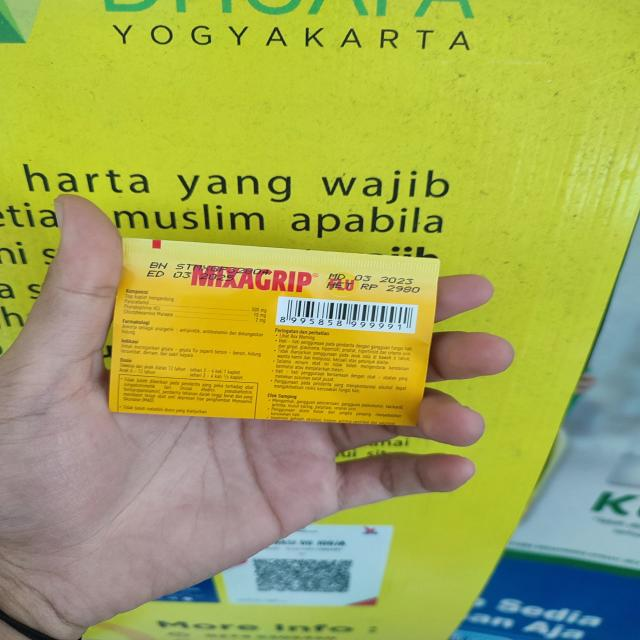B3: (110, 238, 440, 428)
